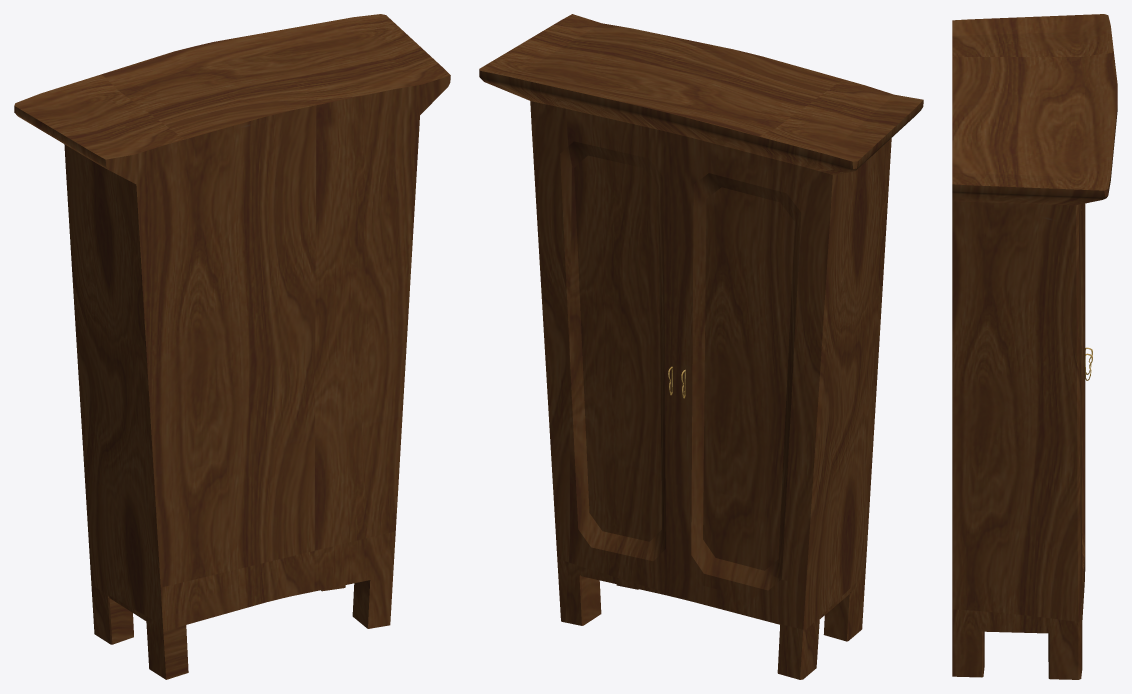
The model's file is Bedroom_Armoire.fbx.
3 views of the same model, side by side, from view 1: azimuth 30°, elevation 25°; view 2: azimuth 150°, elevation 25°; view 3: azimuth 270°, elevation 25° (orthographic). The views are drawn at different scales.
Visible parts, largest first — view 1: ArmoireUVd:polySurface23; view 2: ArmoireUVd:polySurface23; view 3: ArmoireUVd:polySurface23.
Part boxes in pixels (left/top/right/bottom): ArmoireUVd:polySurface23: left=14, top=14, right=450, bottom=679; ArmoireUVd:polySurface23: left=479, top=14, right=923, bottom=679; ArmoireUVd:polySurface23: left=952, top=14, right=1117, bottom=679.
Size of the model in its own units: 160 by 224 by 63.44.
